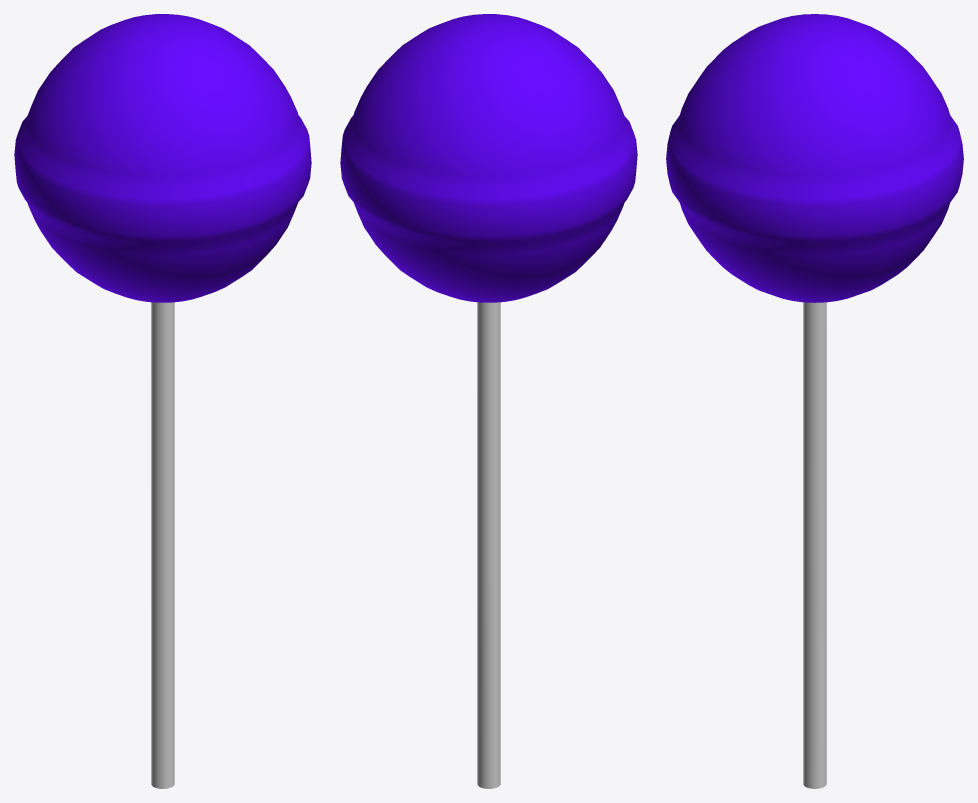
File: Lolipop_purple.fbx
The picture shows the model from 3 angles, left to right: view 1: azimuth 30°, elevation 25°; view 2: azimuth 150°, elevation 25°; view 3: azimuth 270°, elevation 25°; orthographic projection.
Visible parts, largest first — view 1: Head, Stick; view 2: Head, Stick; view 3: Head, Stick.
Part boxes in pixels (<box>): Head: <box>14,14,311,302</box>; Stick: <box>151,302,174,788</box>; Head: <box>340,14,637,302</box>; Stick: <box>477,302,500,788</box>; Head: <box>666,14,963,302</box>; Stick: <box>803,302,826,788</box>.
Bounding box in the file's own units: 3.01 × 8.45 × 3.01.
